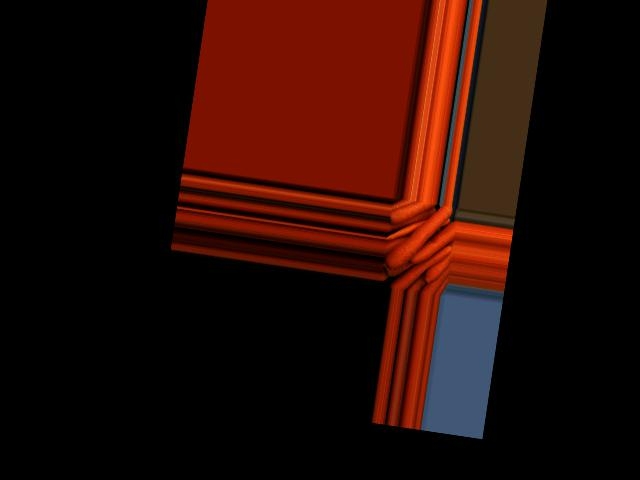carrot: (395, 241, 450, 296)
